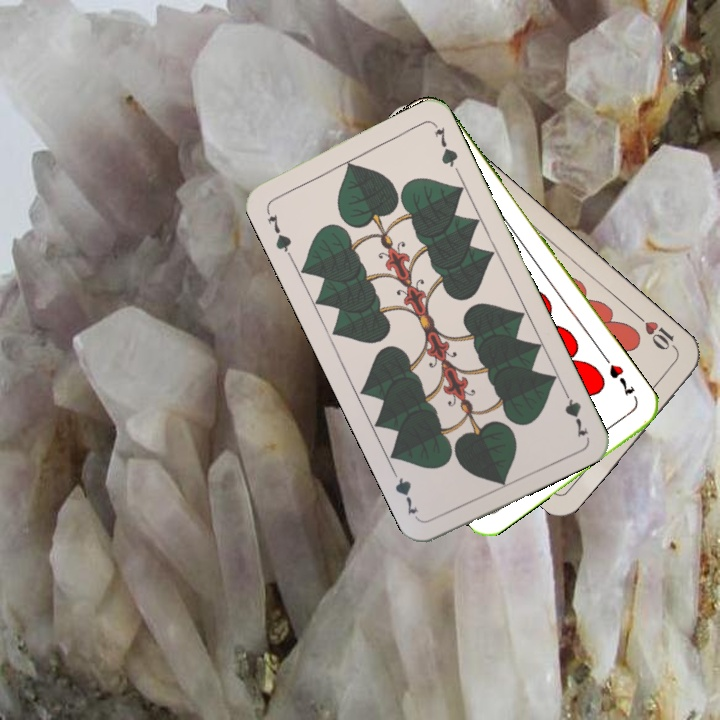G7: (558, 383, 591, 440), (261, 204, 295, 259)
H10: (632, 310, 681, 355)
H7: (605, 360, 638, 399)
